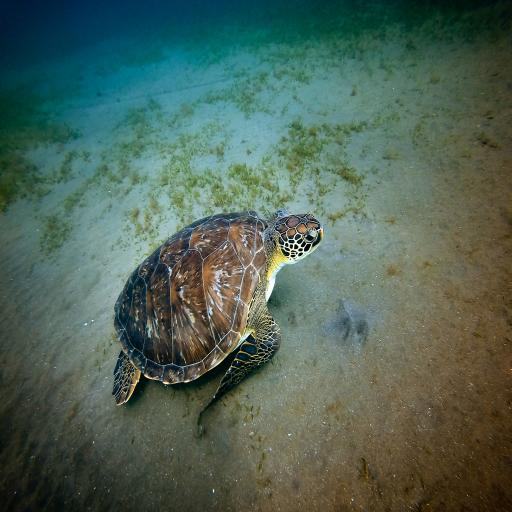turtles: (113, 209, 323, 405)
